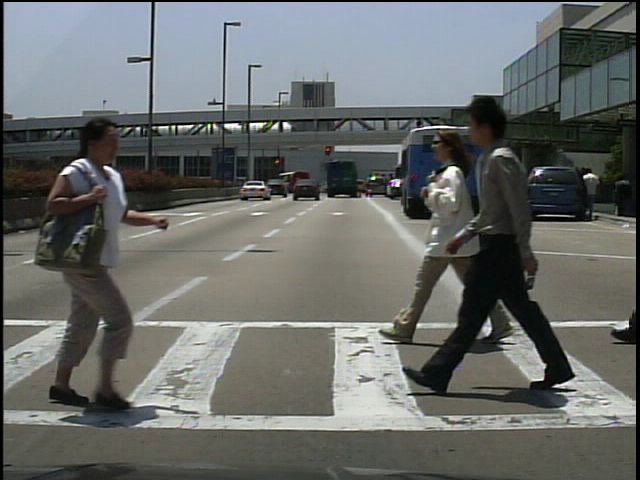person: (443, 81, 582, 399), (41, 121, 163, 414), (397, 117, 512, 352), (485, 162, 503, 215), (507, 166, 525, 216), (585, 166, 602, 218)
